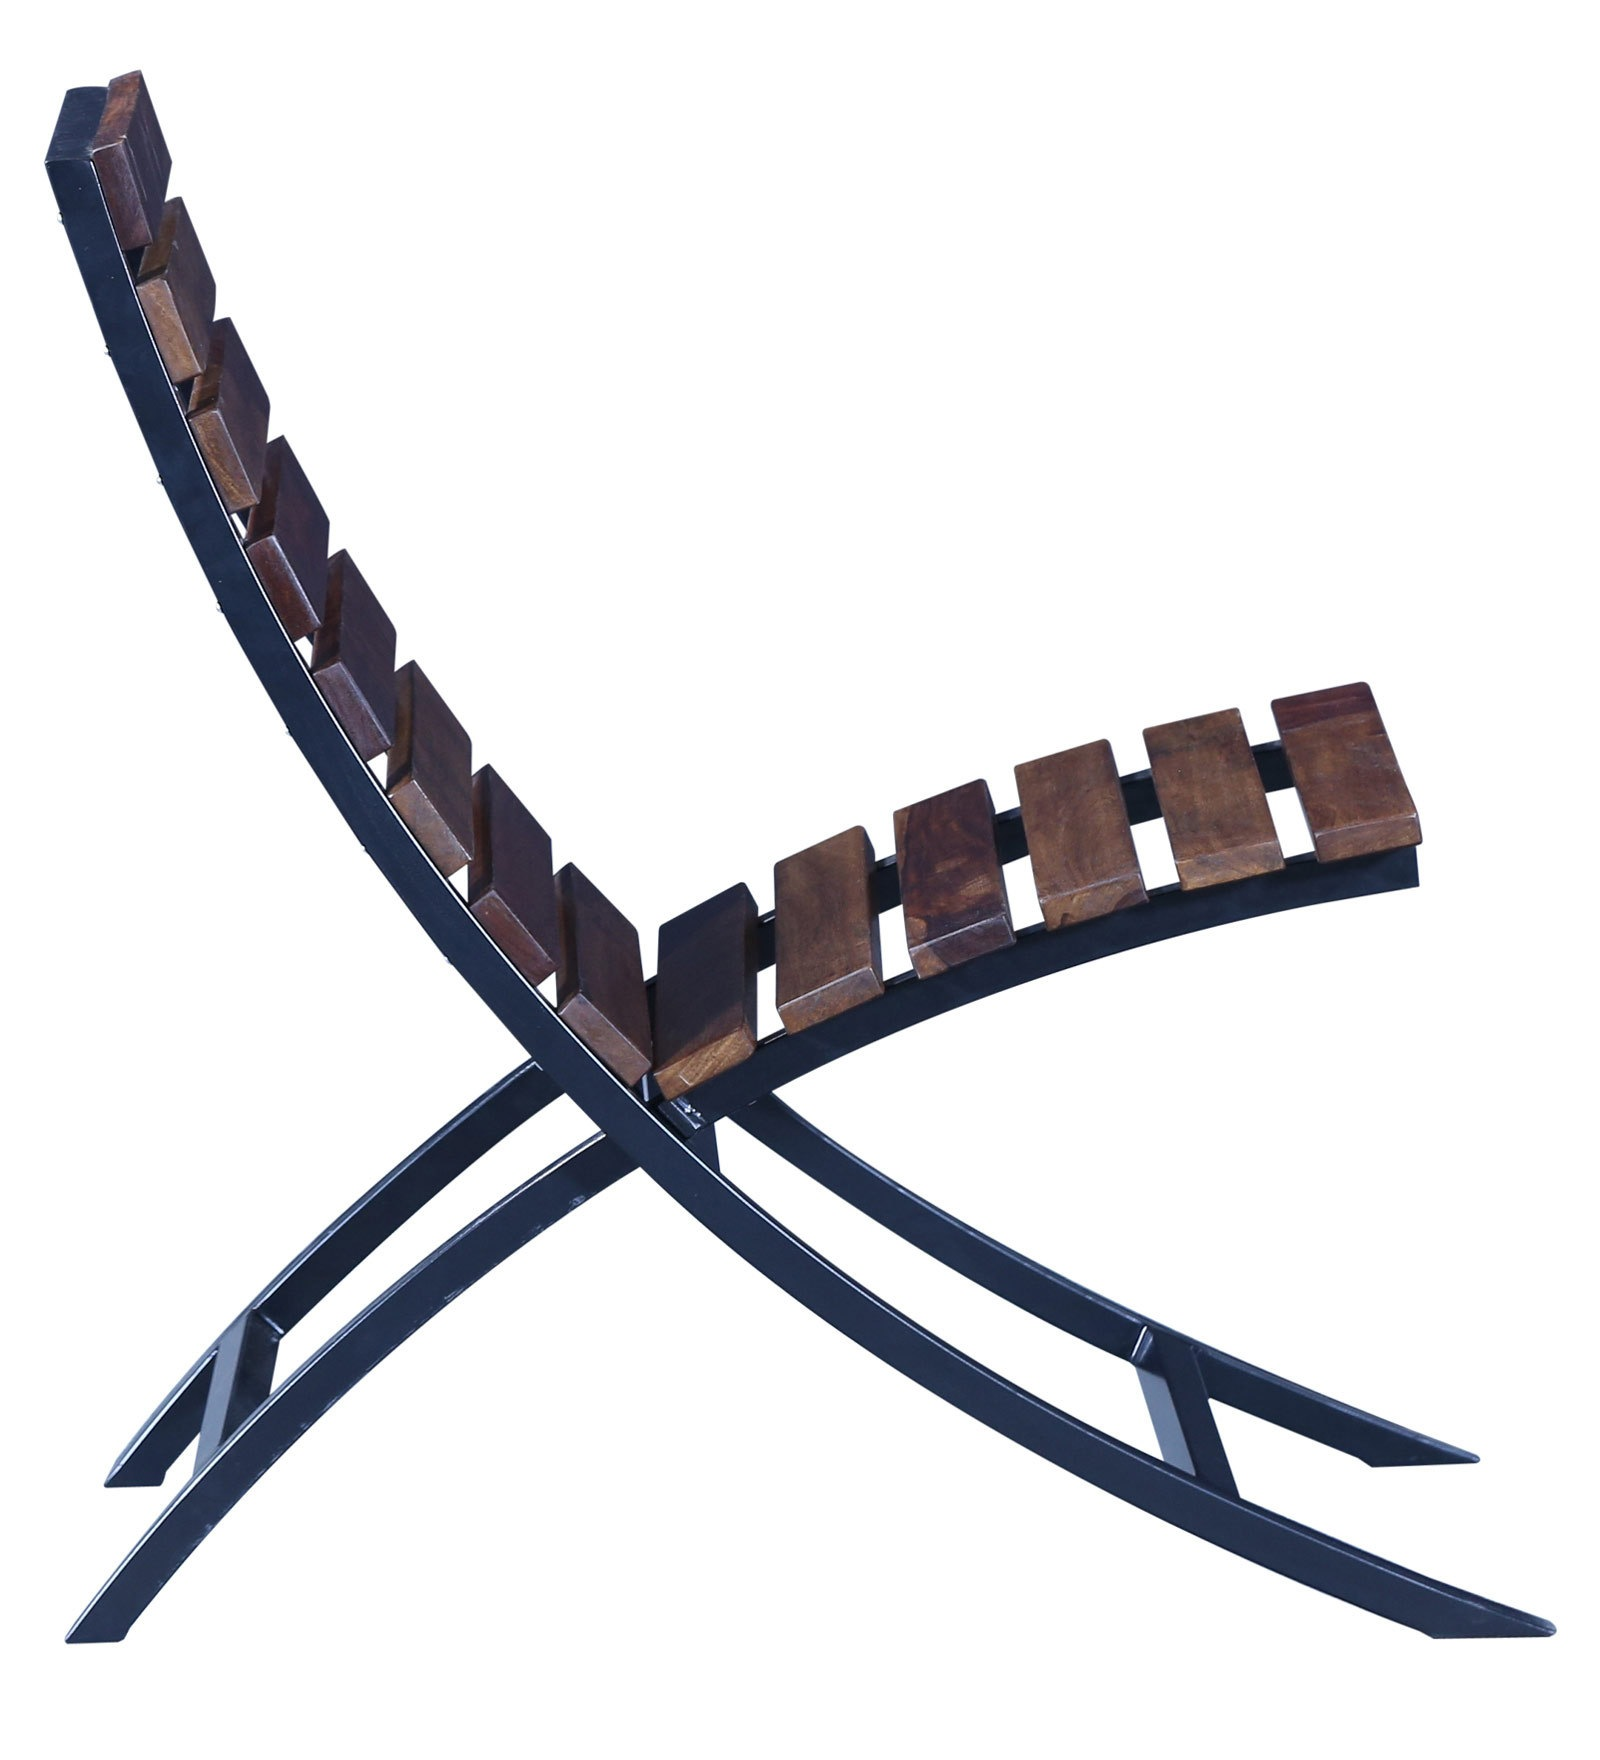Mexico Folding Chair by Bohemiana: (29, 51, 1552, 1663)
